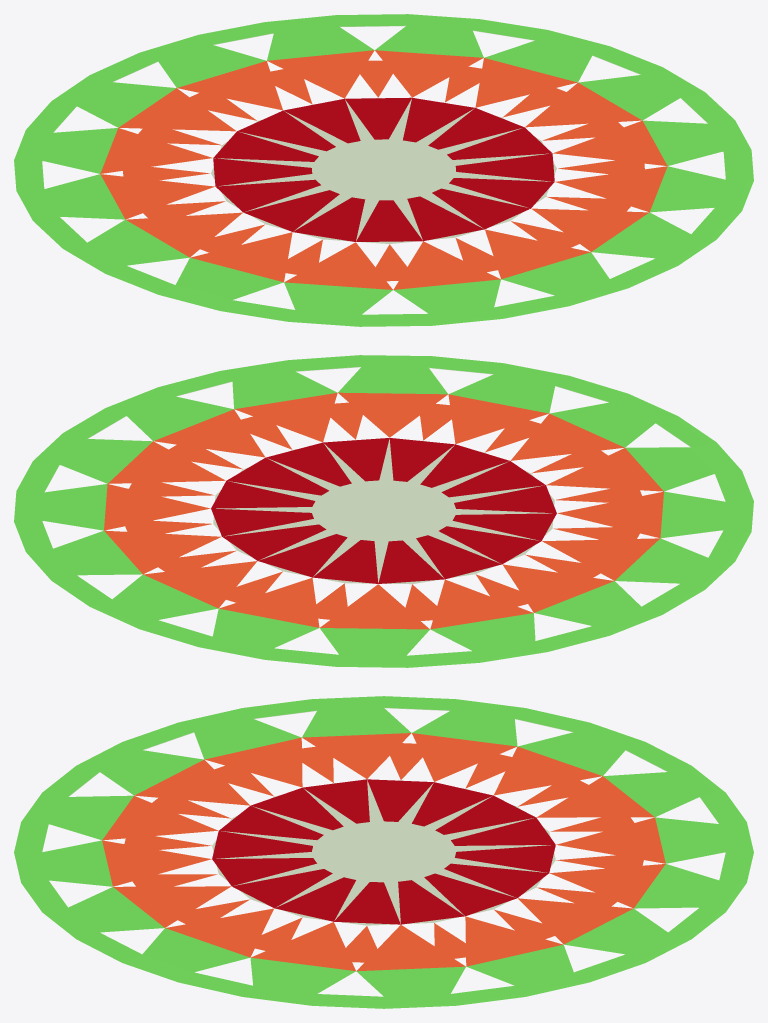
File: zone_rangoli.fbx
3 views of the same model, one above another, from view 1: azimuth 30°, elevation 25°; view 2: azimuth 150°, elevation 25°; view 3: azimuth 270°, elevation 25° (orthographic).
Visible parts, largest first — view 1: Sphere; view 2: Sphere; view 3: Sphere.
Boxes of the visible parts, x1,y1,x2,y2 form: Sphere: (14, 14, 753, 326); Sphere: (14, 355, 753, 667); Sphere: (14, 696, 753, 1008).
Bounding box in the file's own units: 861 × 1.52 × 861.
